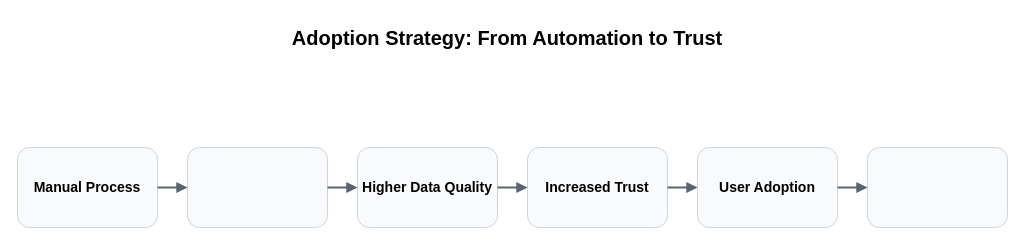
The diagram is 1025 pixels wide and 245 high, and some of its shapes have lost their labels. Here are the shapes that lost their labels. From the top down, the centre of each, then its label:
At pixel 257 187: "Automation".
At pixel 937 187: "Single Source of Truth".
